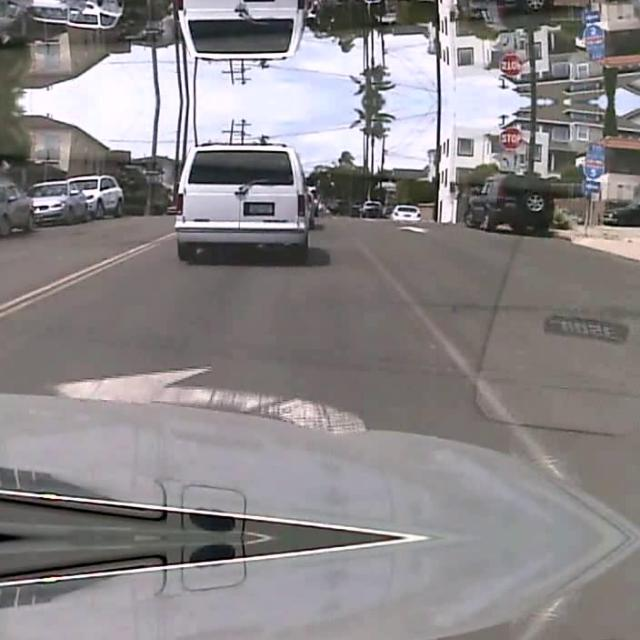stop: (499, 125, 523, 147), (499, 55, 523, 77)
